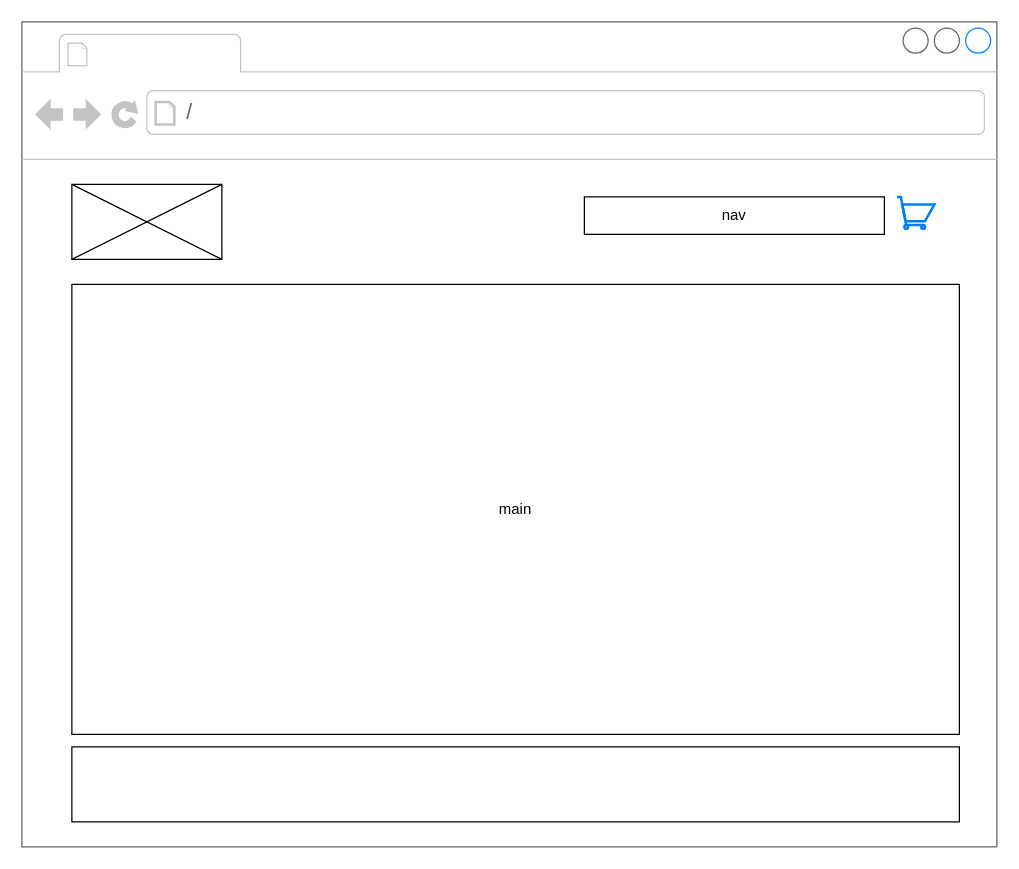
Image size: 1019x869. Some labels were removed from this diagram. Here are the shapes that lost their labels. From the top down, the centre of each, then its label:
point (165, 52): Page 1
point (515, 784): footer
